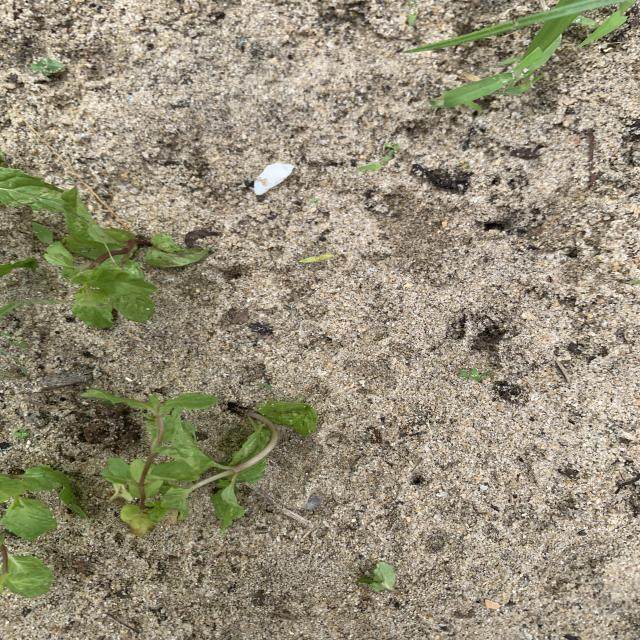crop: (84, 390, 317, 535), (34, 186, 207, 327), (0, 468, 87, 539)
weed: (416, 0, 629, 107), (359, 142, 399, 171), (460, 368, 494, 381), (1, 332, 27, 347), (300, 253, 335, 262), (13, 429, 29, 440)
